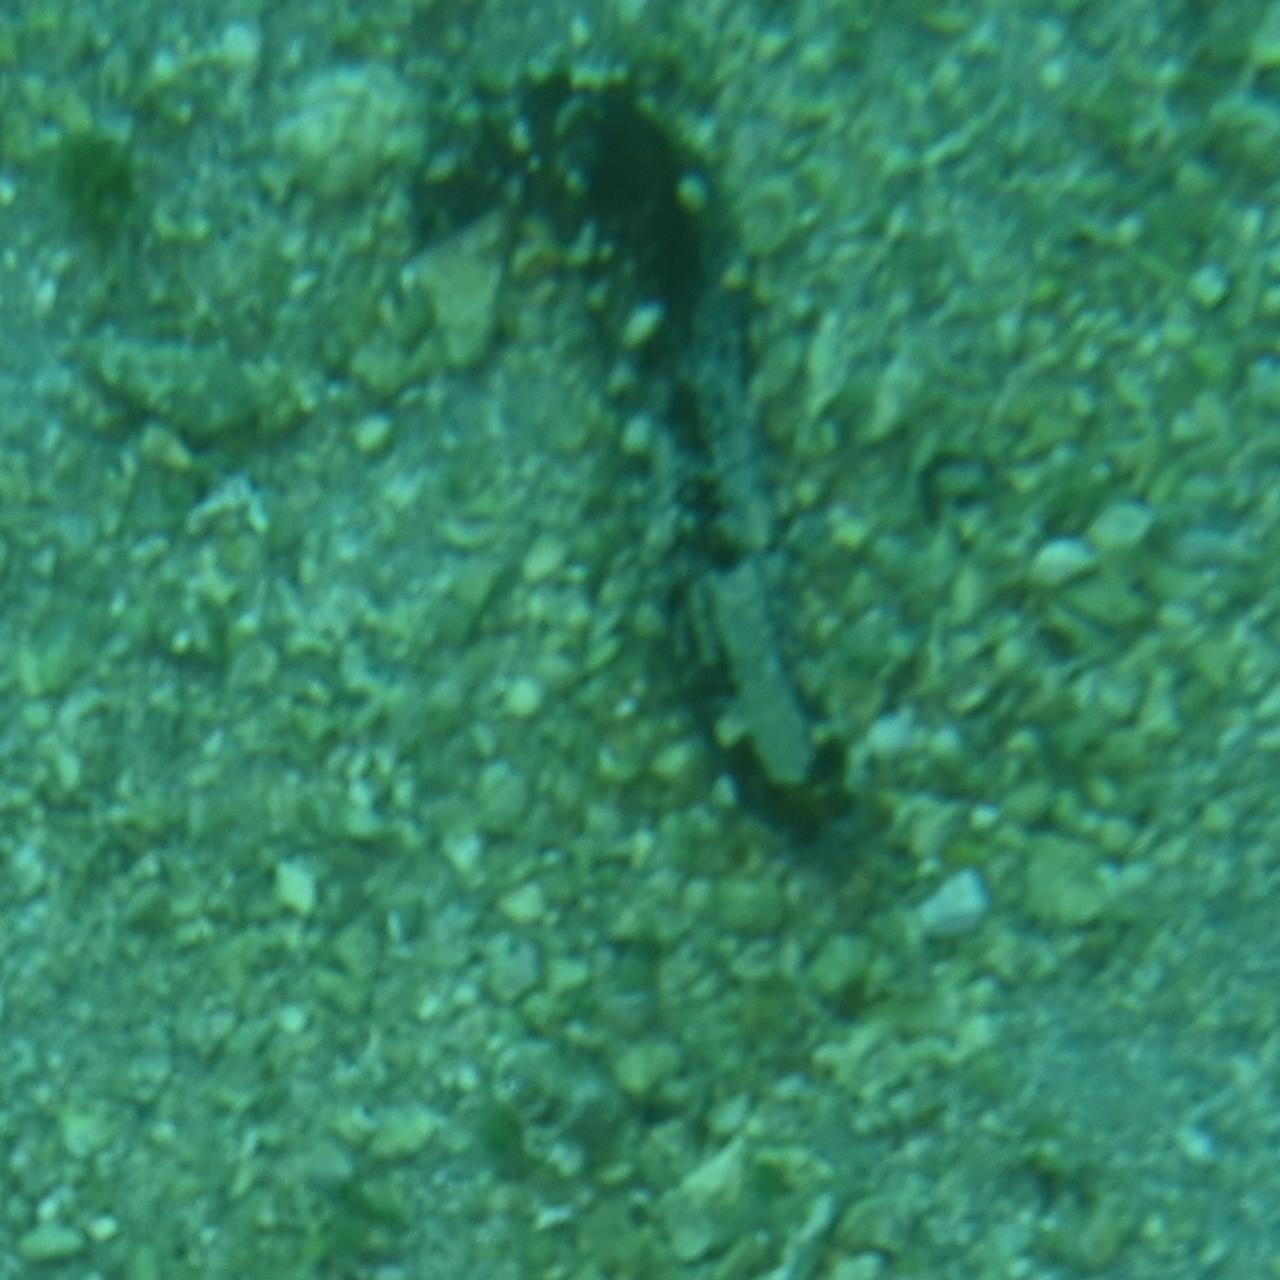Holothuria tubulosa: (409, 55, 871, 881)
